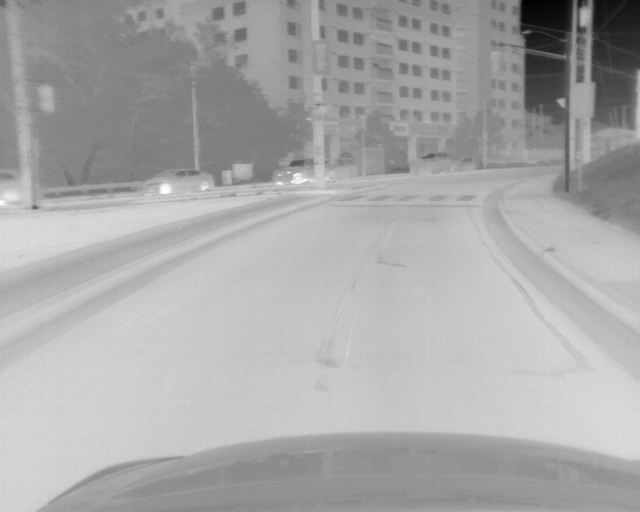car: (141, 167, 213, 196), (272, 157, 336, 187), (1, 166, 39, 210), (408, 151, 465, 174)
